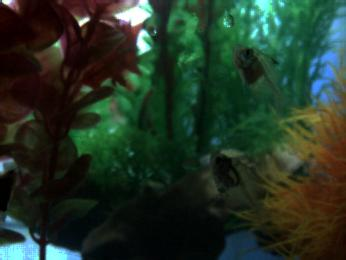X-ray fish: (208, 151, 273, 223), (231, 43, 293, 113)
glassfish: (1, 164, 23, 243)
